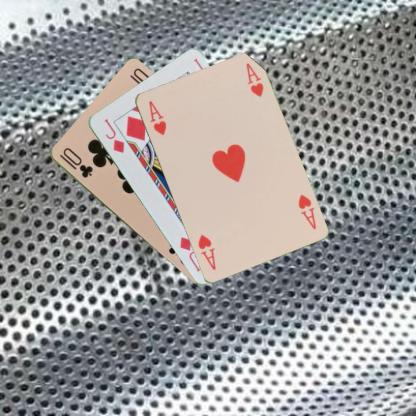10c: (57, 145, 94, 179)
Ah: (295, 191, 317, 231), (146, 98, 168, 136)
Jd: (101, 116, 125, 154)
